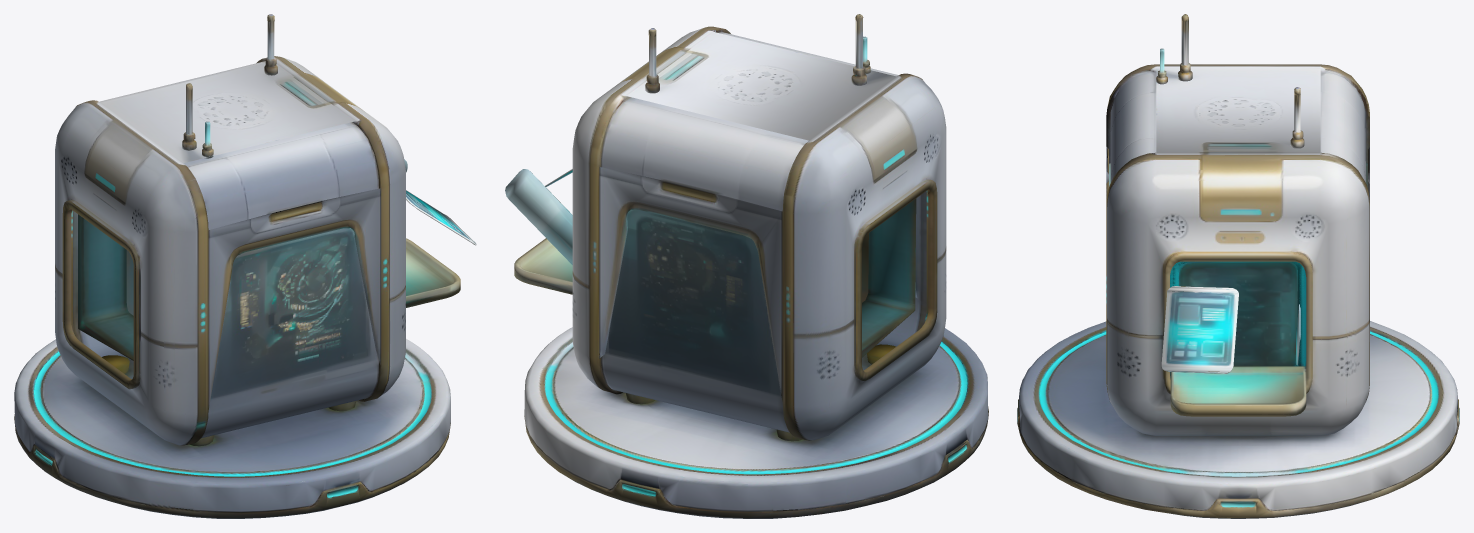
Rendered from maquina-digitales.glb.
3 views of the same model, side by side, from view 1: azimuth 30°, elevation 25°; view 2: azimuth 150°, elevation 25°; view 3: azimuth 270°, elevation 25° (orthographic). The views are drawn at different scales.
Parts seen in each view (by area): view 1: tripo_node_1498b307-9fc5-4908-8a34-8878672af3da; view 2: tripo_node_1498b307-9fc5-4908-8a34-8878672af3da; view 3: tripo_node_1498b307-9fc5-4908-8a34-8878672af3da.
Boxes of the visible parts, x1,y1,x2,y2 form: tripo_node_1498b307-9fc5-4908-8a34-8878672af3da: (14,14,476,518); tripo_node_1498b307-9fc5-4908-8a34-8878672af3da: (505,14,988,518); tripo_node_1498b307-9fc5-4908-8a34-8878672af3da: (1017,14,1459,518).
Bounding box in the file's own units: 0.4434 × 0.4 × 0.4226.
1 material, 1 textured.
